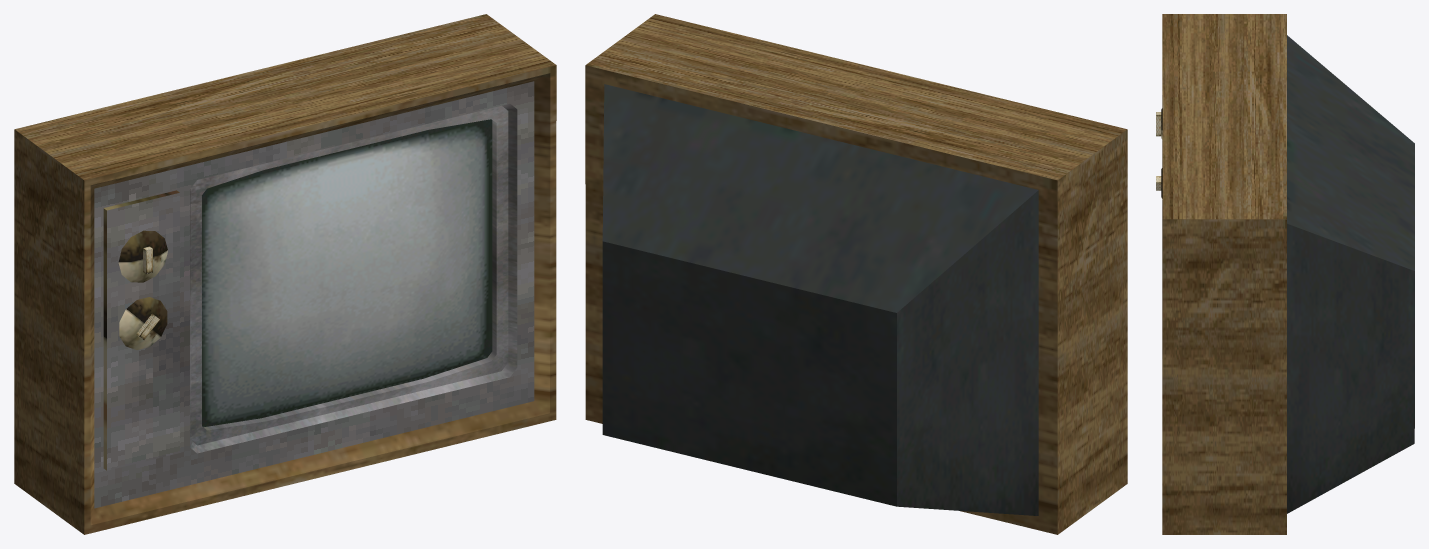
3 renders of one model, left to right at view 1: azimuth 30°, elevation 25°; view 2: azimuth 150°, elevation 25°; view 3: azimuth 270°, elevation 25°, orthographic. The views are drawn at different scales.
Parts seen in each view (by area): view 1: LOW_TV_3; view 2: LOW_TV_3; view 3: LOW_TV_3.
Boxes of the visible parts, x1,y1,x2,y2 form: LOW_TV_3: [14, 14, 556, 534]; LOW_TV_3: [585, 14, 1127, 534]; LOW_TV_3: [1156, 14, 1414, 534].
Size of the model in its own units: 0.6493 by 0.466 by 0.3461.
6 materials, 6 textured.
